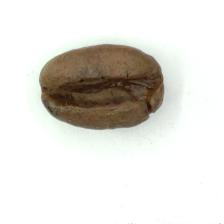NG: (50, 72, 155, 120)
